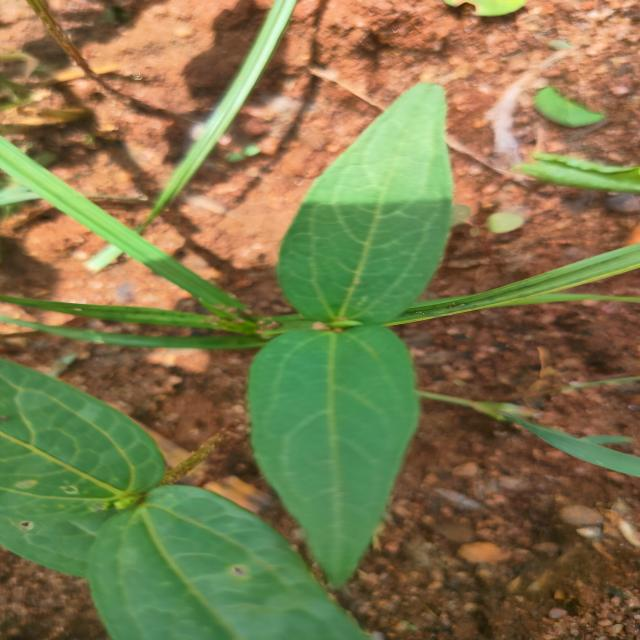Black gram_healthy: (236, 325, 445, 581), (77, 482, 379, 640), (281, 74, 457, 323), (0, 362, 152, 510)
